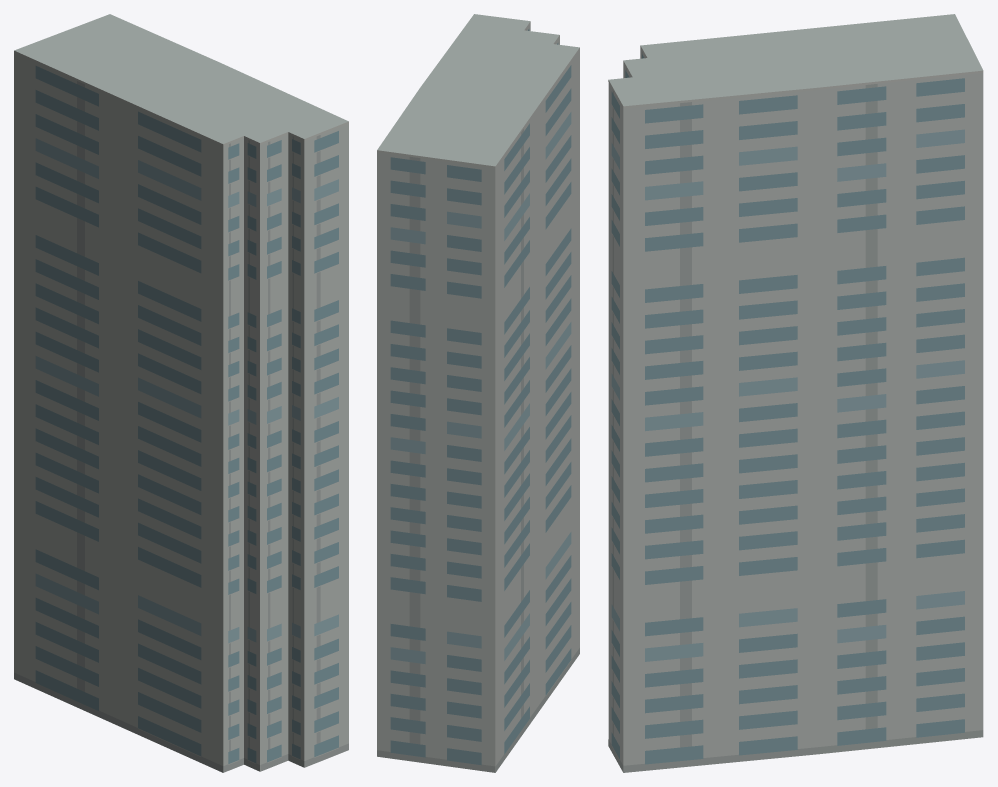
Rendered from residential-842c663b-5671-4d7d-aeb5-d95645a65021.glb.
3 views of the same model, side by side, from view 1: azimuth 30°, elevation 25°; view 2: azimuth 150°, elevation 25°; view 3: azimuth 270°, elevation 25° (orthographic). The views are drawn at different scales.
Visible parts, largest first — view 1: residential-842c663b-5671-4d7d-aeb5-d95645a65021.tmp; view 2: residential-842c663b-5671-4d7d-aeb5-d95645a65021.tmp; view 3: residential-842c663b-5671-4d7d-aeb5-d95645a65021.tmp.
Boxes of the visible parts, box(x1,y1,x2,y2) form: residential-842c663b-5671-4d7d-aeb5-d95645a65021.tmp: box(14, 14, 348, 772); residential-842c663b-5671-4d7d-aeb5-d95645a65021.tmp: box(377, 14, 579, 772); residential-842c663b-5671-4d7d-aeb5-d95645a65021.tmp: box(608, 14, 983, 772).
Bounding box in the file's own units: 21.4 × 72 × 36.71.
